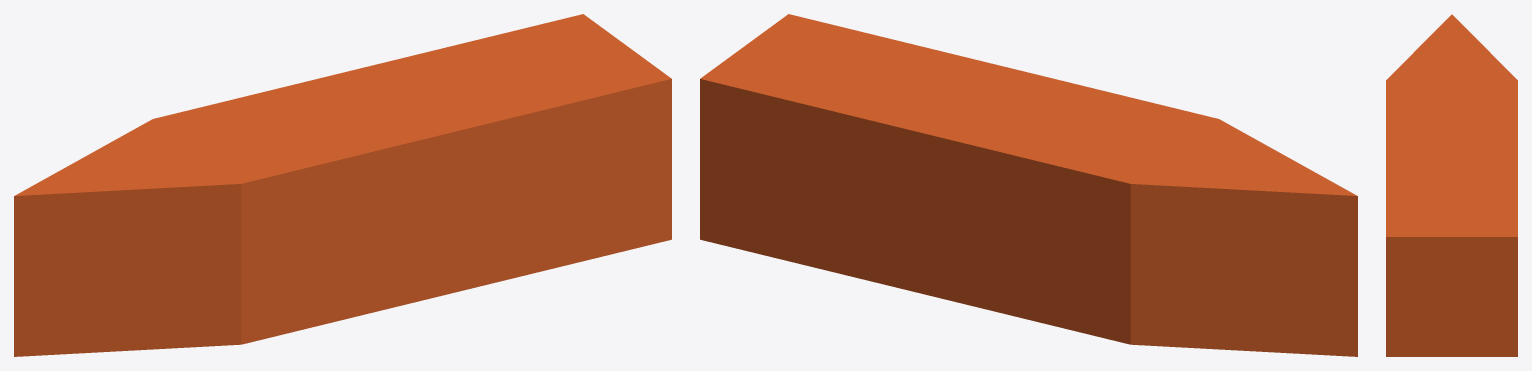
Rendered from Ship.fbx.
The picture shows the model from 3 angles, left to right: view 1: azimuth 30°, elevation 25°; view 2: azimuth 150°, elevation 25°; view 3: azimuth 270°, elevation 25°; orthographic projection. The views are drawn at different scales.
Visible parts, largest first — view 1: SketchUp; view 2: SketchUp; view 3: SketchUp.
Boxes of the visible parts, x1=… form: SketchUp: x1=14, y1=14, x2=671, y2=356; SketchUp: x1=700, y1=14, x2=1357, y2=356; SketchUp: x1=1386, y1=14, x2=1517, y2=356.
Bounding box in the file's own units: 1575 × 394 × 394.
